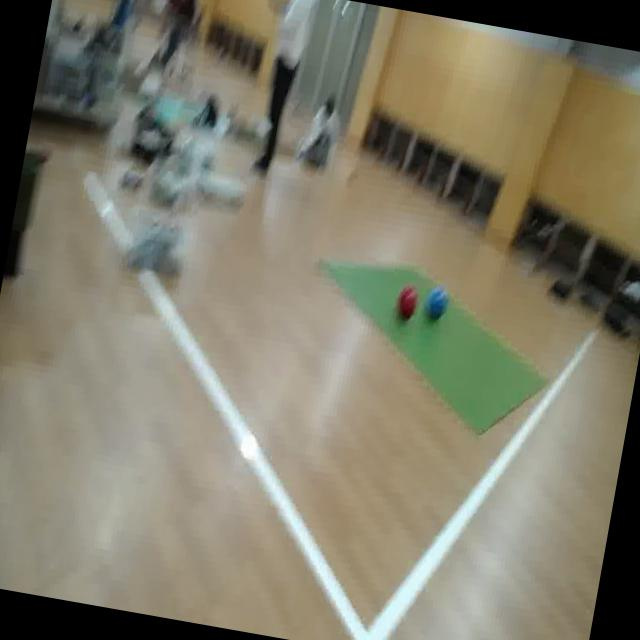blue_ball: (421, 284, 450, 326)
red_ball: (394, 288, 419, 324)
